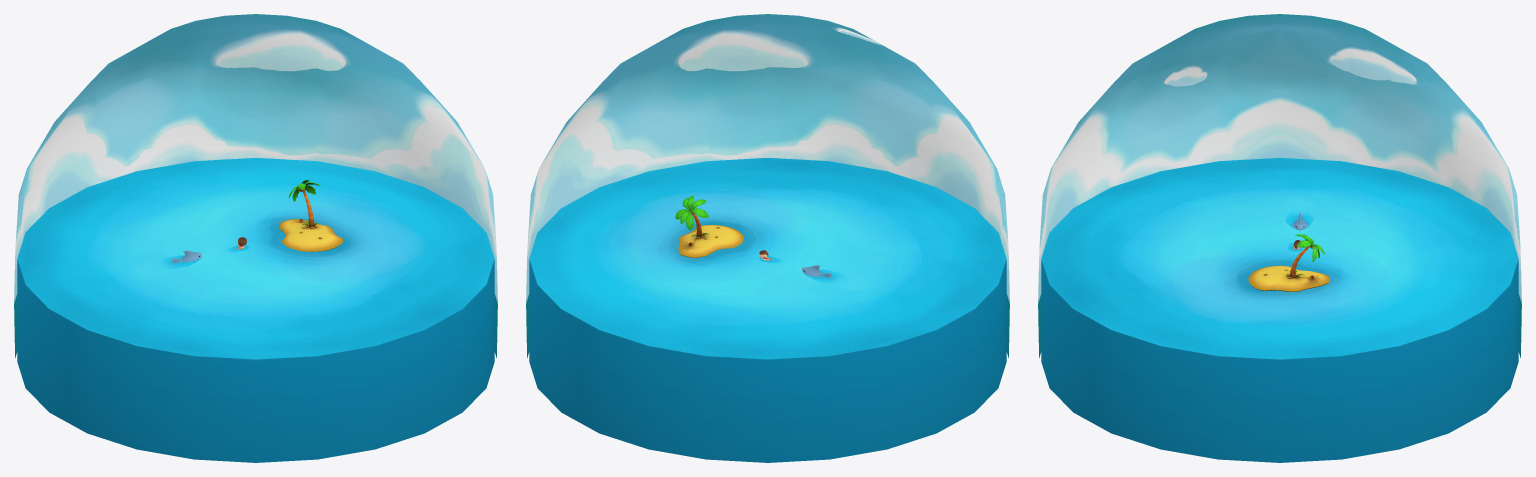
File: shark_attack.glb
3 renders of one model, left to right at view 1: azimuth 30°, elevation 25°; view 2: azimuth 150°, elevation 25°; view 3: azimuth 270°, elevation 25°, orthographic.
Visible parts, largest first — view 1: water, skybox, island; view 2: water, skybox, island; view 3: water, skybox, island.
Boxes of the visible parts, <box> form: water: <box>17,158,494,462</box>; skybox: <box>14,14,497,358</box>; island: <box>278,218,343,251</box>; water: <box>529,158,1006,462</box>; skybox: <box>526,14,1009,358</box>; island: <box>678,225,743,258</box>; water: <box>1041,158,1518,462</box>; skybox: <box>1038,14,1521,358</box>; island: <box>1248,265,1329,291</box>.
Bounding box in the file's own units: 4.28 × 3.19 × 4.28.
Materials: 5 (5 with a texture image).
